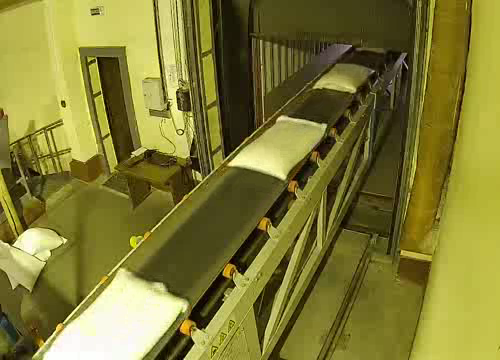bag: (37, 261, 201, 360), (223, 110, 335, 186), (312, 63, 377, 95), (355, 45, 388, 57)
